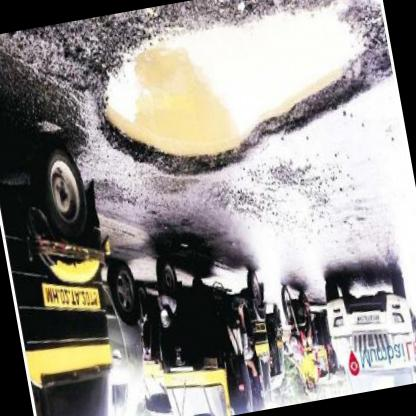pothole: (78, 0, 405, 194)
